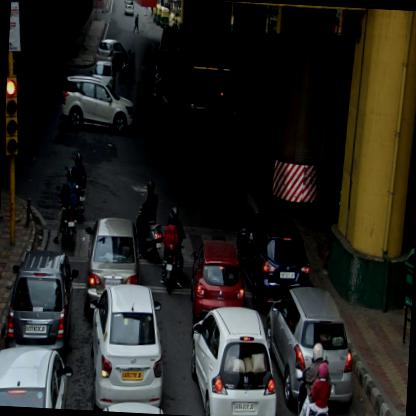bus: (152, 28, 232, 96)
car: (260, 283, 358, 414), (82, 281, 166, 413), (187, 304, 282, 415), (3, 249, 80, 351), (234, 212, 311, 308), (81, 216, 142, 314), (187, 238, 248, 320), (0, 346, 75, 409), (59, 74, 137, 130), (188, 86, 245, 124), (152, 61, 198, 92), (94, 38, 130, 74), (90, 60, 116, 92), (124, 0, 135, 16)
motorcycle: (293, 340, 334, 415), (133, 178, 164, 267), (156, 203, 186, 294), (53, 171, 80, 247), (68, 153, 88, 222), (150, 78, 178, 113), (116, 48, 136, 84)
